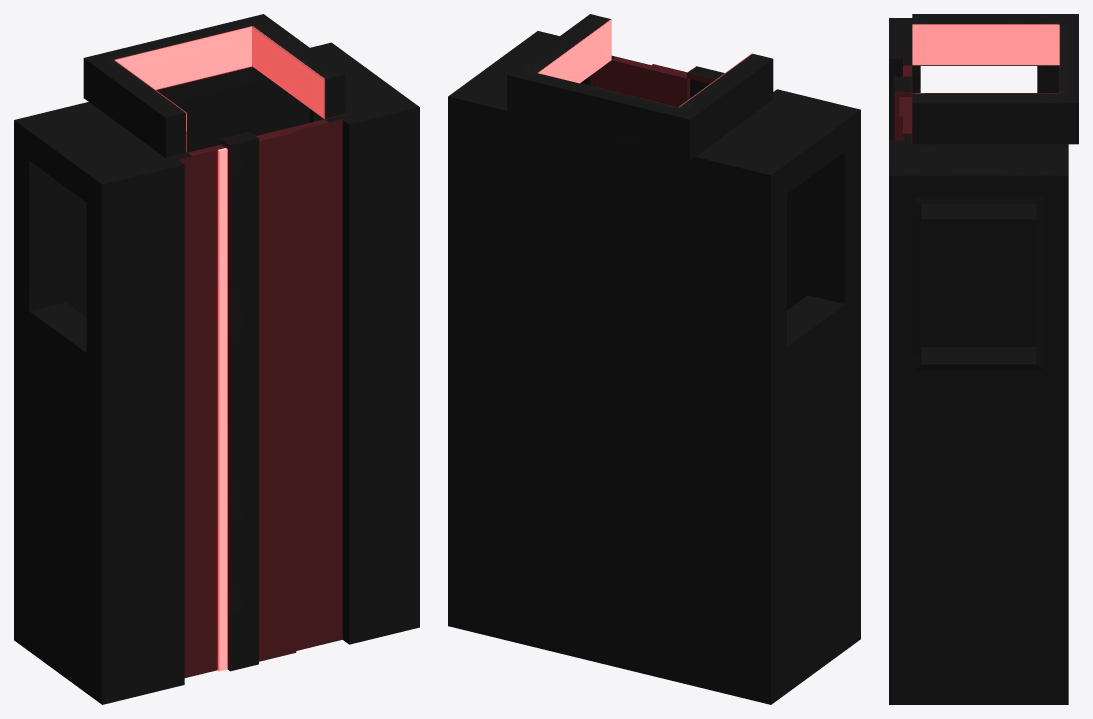
Rendered from vest.glb.
The picture shows the model from 3 angles, left to right: view 1: azimuth 30°, elevation 25°; view 2: azimuth 150°, elevation 25°; view 3: azimuth 270°, elevation 25°; orthographic projection.
Visible parts, largest first — view 1: vest.001; view 2: vest.001; view 3: vest.001.
Part boxes in pixels (bbox=[...]): vest.001: bbox=[14, 14, 419, 704]; vest.001: bbox=[448, 14, 860, 704]; vest.001: bbox=[889, 14, 1078, 704].
Bounding box in the file's own units: 2.71 × 4.56 × 1.37.
Materials: 1 (1 with a texture image).
